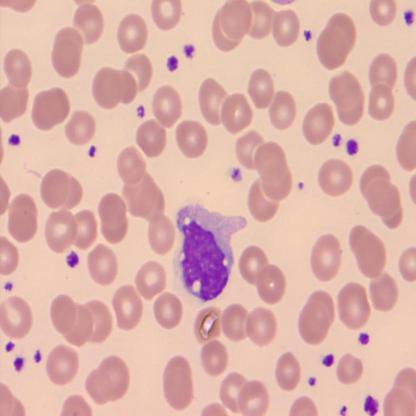Monocyte: (171, 197, 249, 306)
